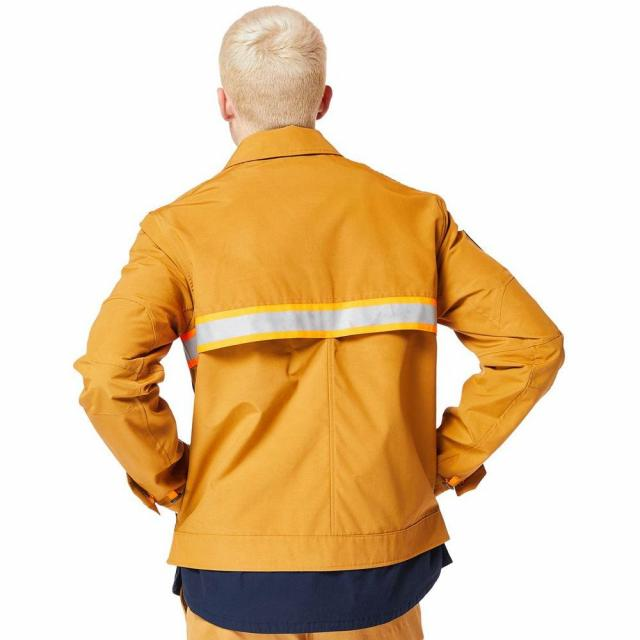Reflective-Jacket: (150, 124, 454, 627)
